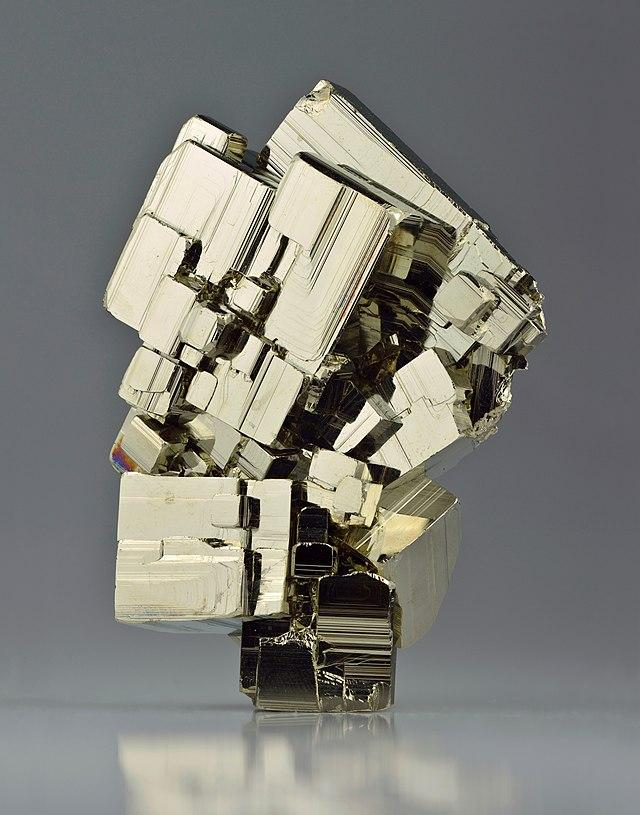pyrite: (84, 74, 562, 715)
